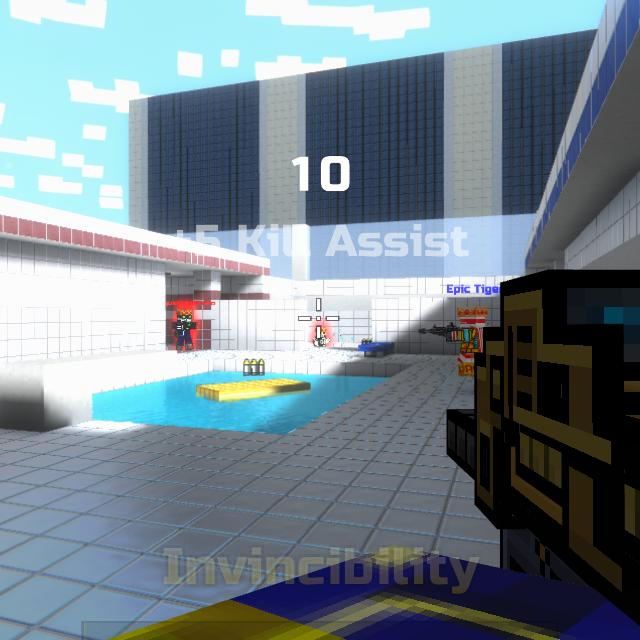Enemy: (172, 311, 197, 351), (312, 328, 330, 347)
